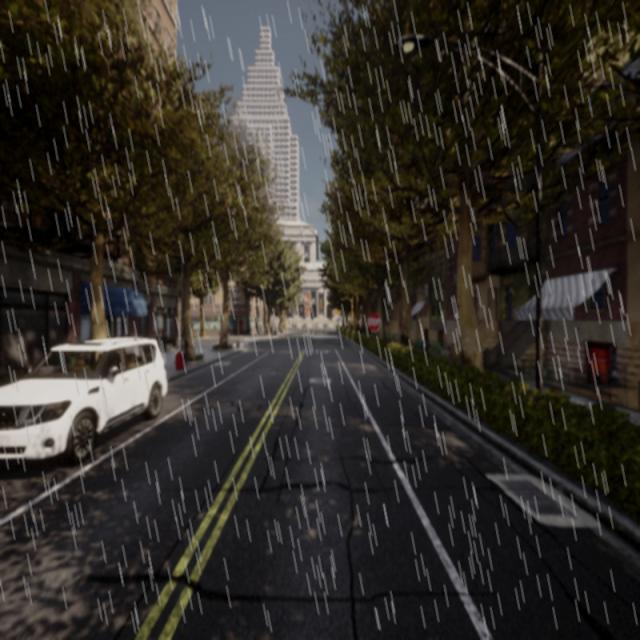stop sign: (364, 308, 383, 335)
